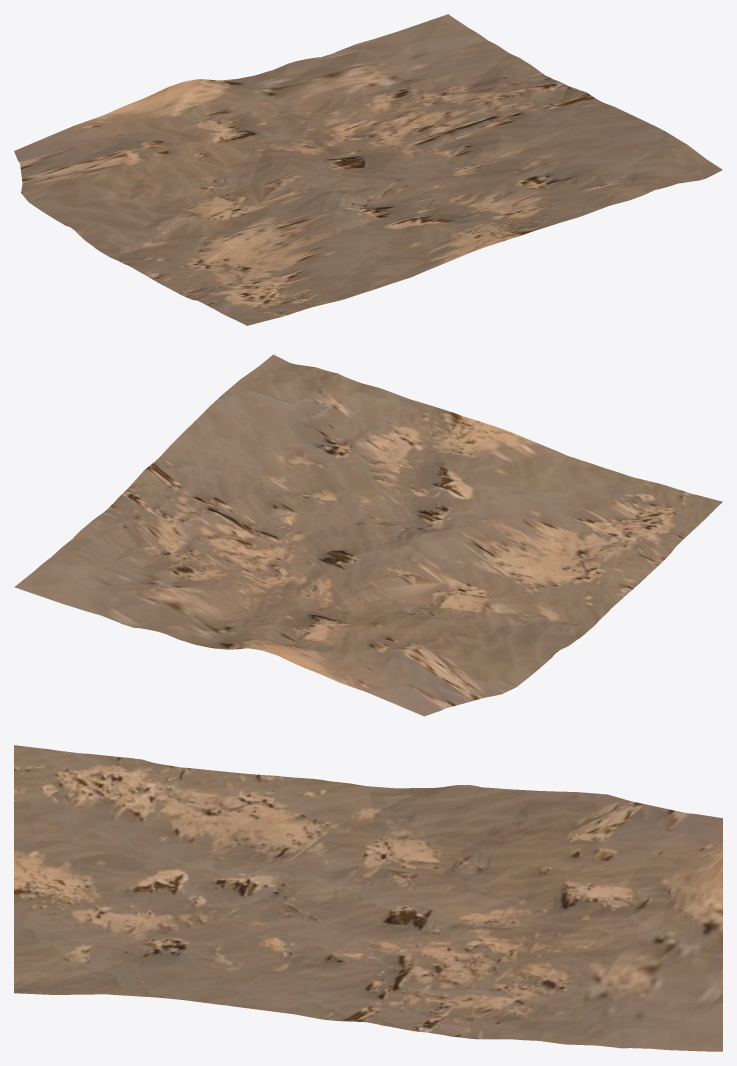
The picture shows the model from 3 angles, top to bottom: view 1: azimuth 30°, elevation 25°; view 2: azimuth 150°, elevation 25°; view 3: azimuth 270°, elevation 25°; orthographic projection. The views are drawn at different scales.
Size of the model in its own units: 2.09 by 0.3195 by 2.09.
2 materials, 2 textured.
